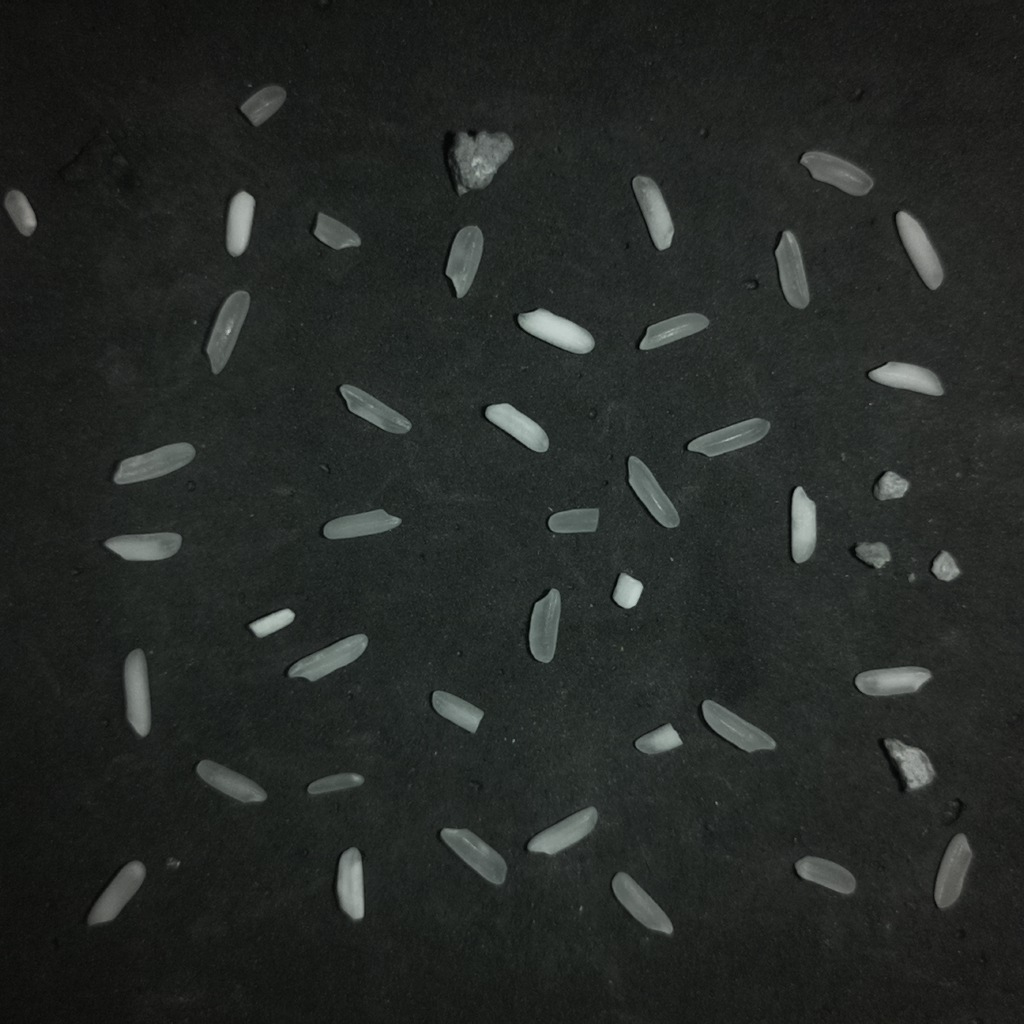broken: (794, 856, 855, 894), (791, 486, 816, 563), (240, 84, 285, 125), (315, 215, 359, 250), (4, 189, 36, 236), (547, 508, 599, 534), (306, 773, 363, 795), (612, 572, 643, 609)
chalky: (895, 211, 943, 289), (518, 308, 594, 353), (527, 807, 597, 854), (484, 403, 548, 452), (632, 176, 673, 250), (867, 361, 943, 396), (123, 648, 151, 736), (431, 690, 483, 733), (104, 532, 181, 560), (856, 666, 929, 694), (336, 847, 364, 920), (226, 190, 254, 256), (634, 723, 682, 755), (248, 608, 294, 637)
foreign: (447, 131, 513, 195), (883, 738, 935, 790), (873, 471, 908, 500), (930, 550, 961, 582), (854, 542, 890, 568)
whole: (86, 860, 145, 925), (612, 872, 672, 935), (701, 700, 775, 751), (287, 633, 367, 680), (440, 828, 506, 884), (627, 456, 679, 527), (206, 291, 249, 374), (339, 384, 411, 433), (113, 442, 195, 484), (800, 151, 873, 196), (687, 417, 769, 457), (195, 759, 266, 802), (934, 833, 972, 908), (775, 230, 809, 308), (446, 226, 483, 297), (639, 313, 708, 350), (529, 589, 561, 663), (323, 509, 401, 539)
